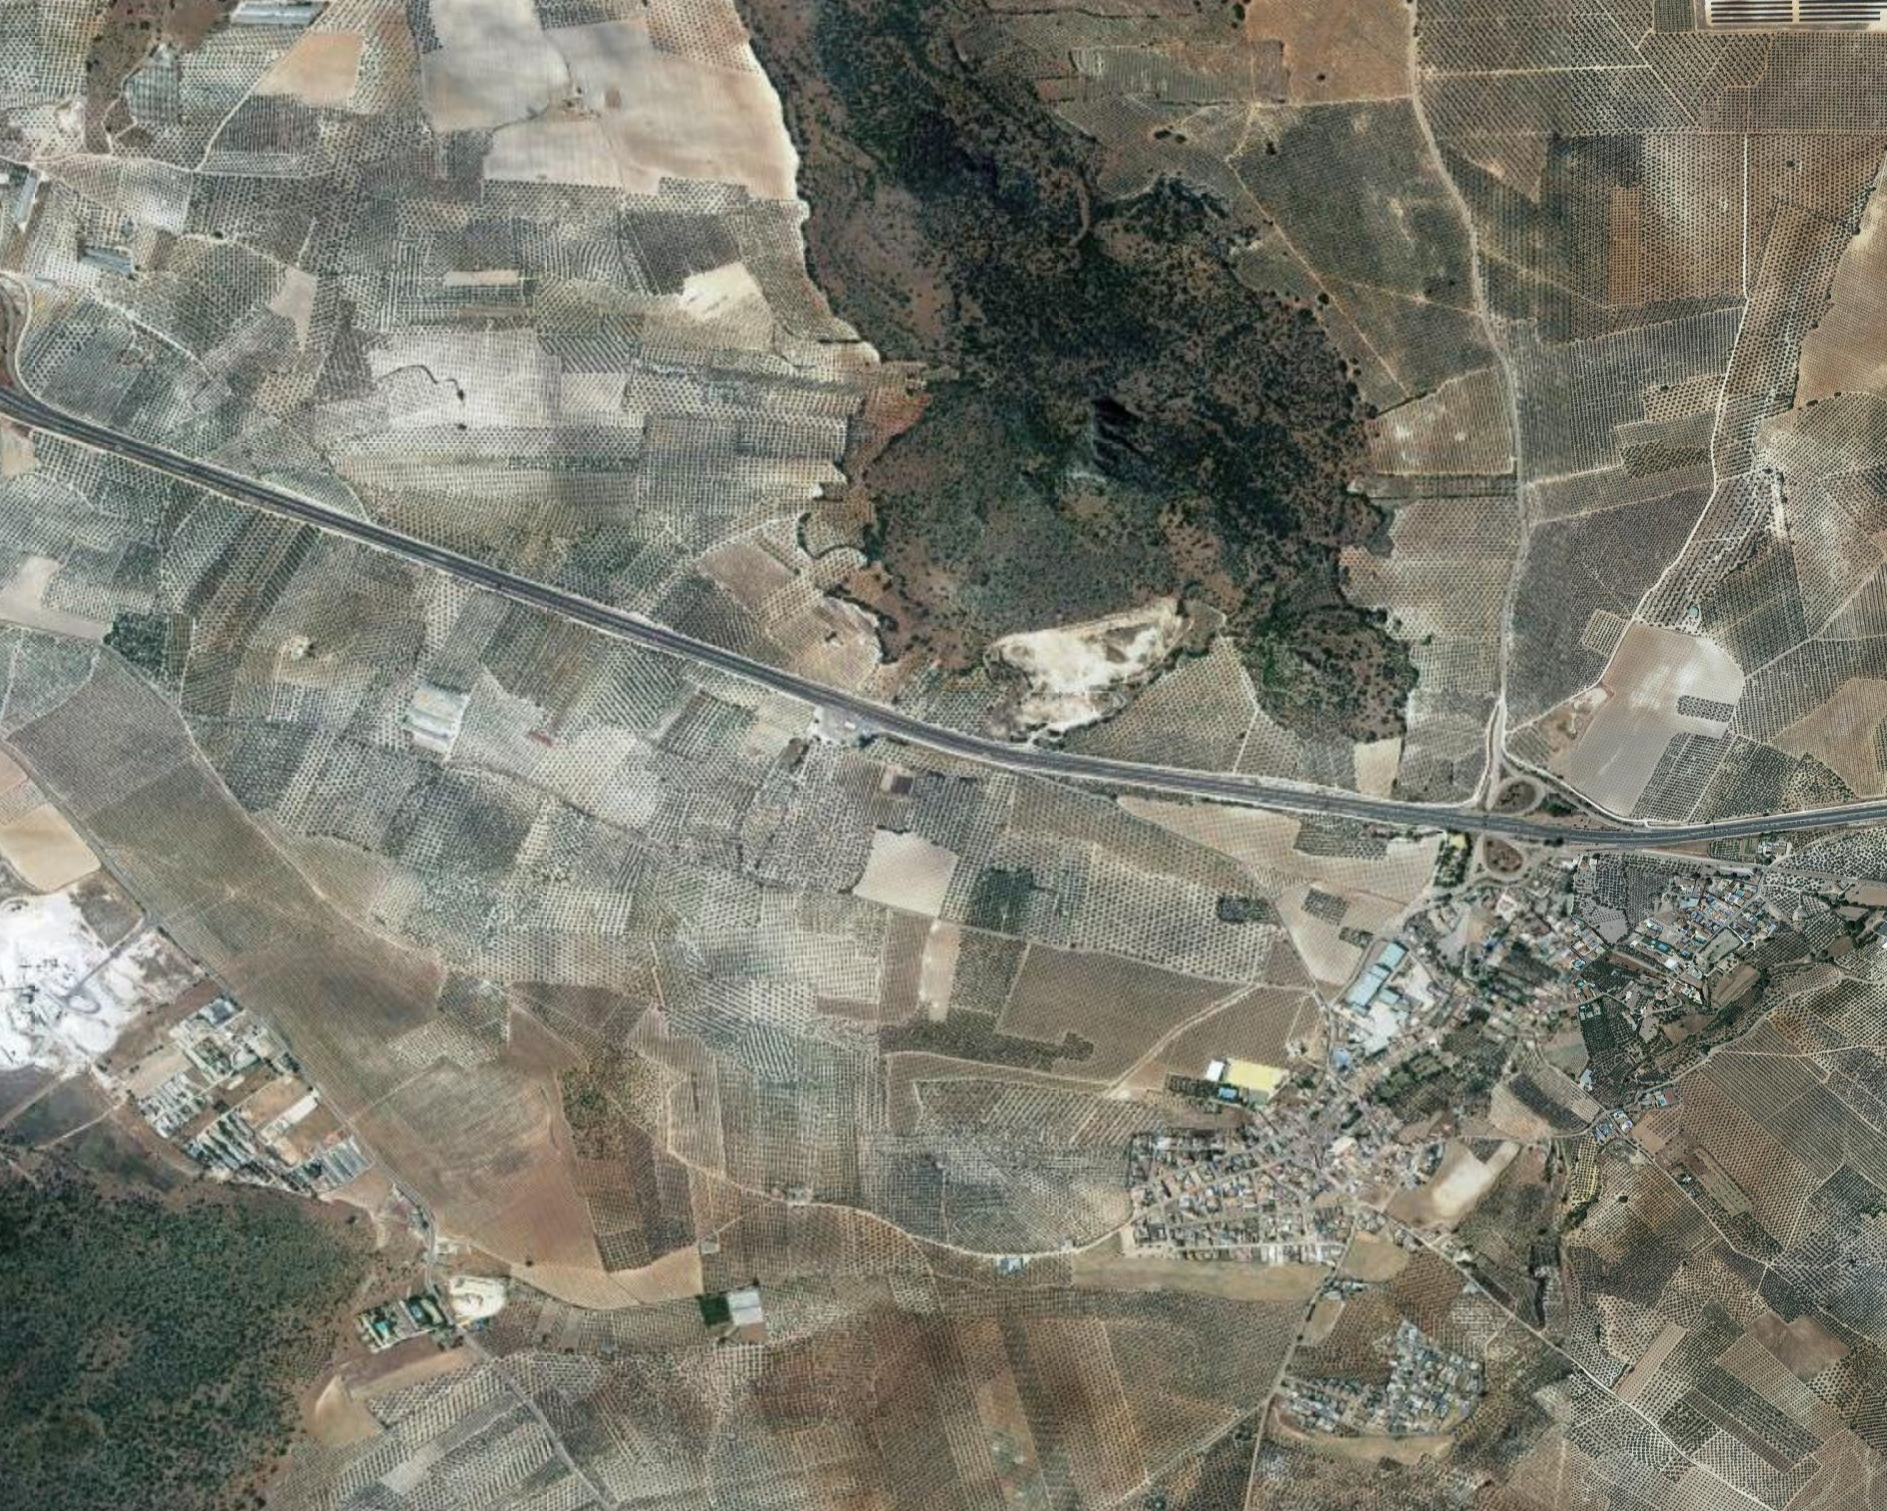motorway: (396, 459, 795, 705), (795, 594, 1193, 837), (1193, 695, 1591, 939), (2, 347, 398, 591), (1593, 722, 1887, 954)
